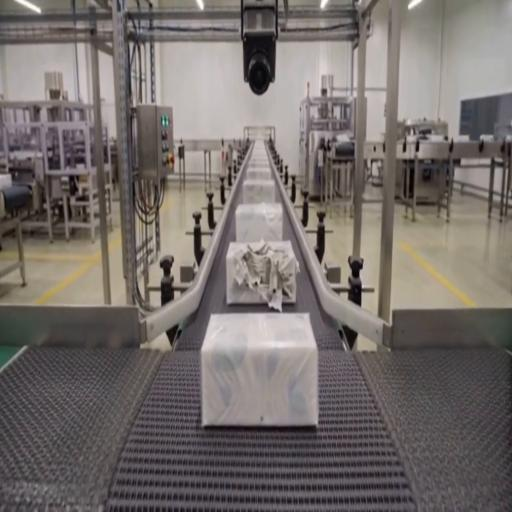defective: (202, 311, 318, 429), (226, 238, 299, 306)
good: (234, 202, 284, 245), (243, 176, 277, 205), (245, 142, 272, 166), (245, 160, 272, 181)
